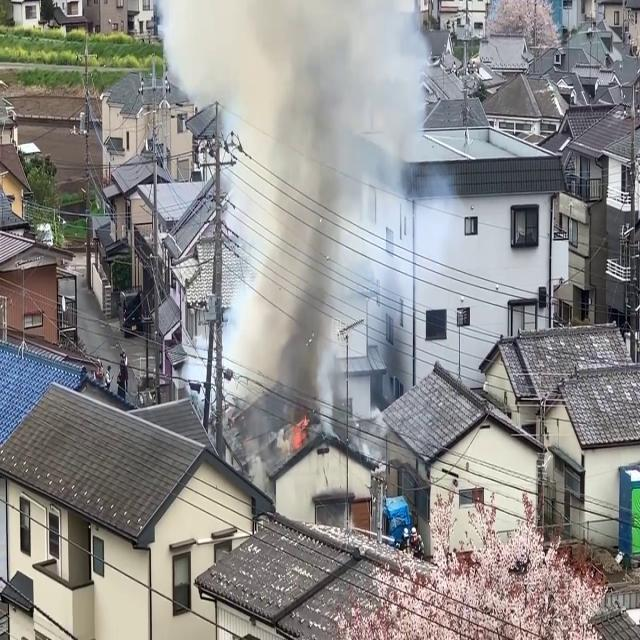Smoke: (218, 0, 450, 425)
